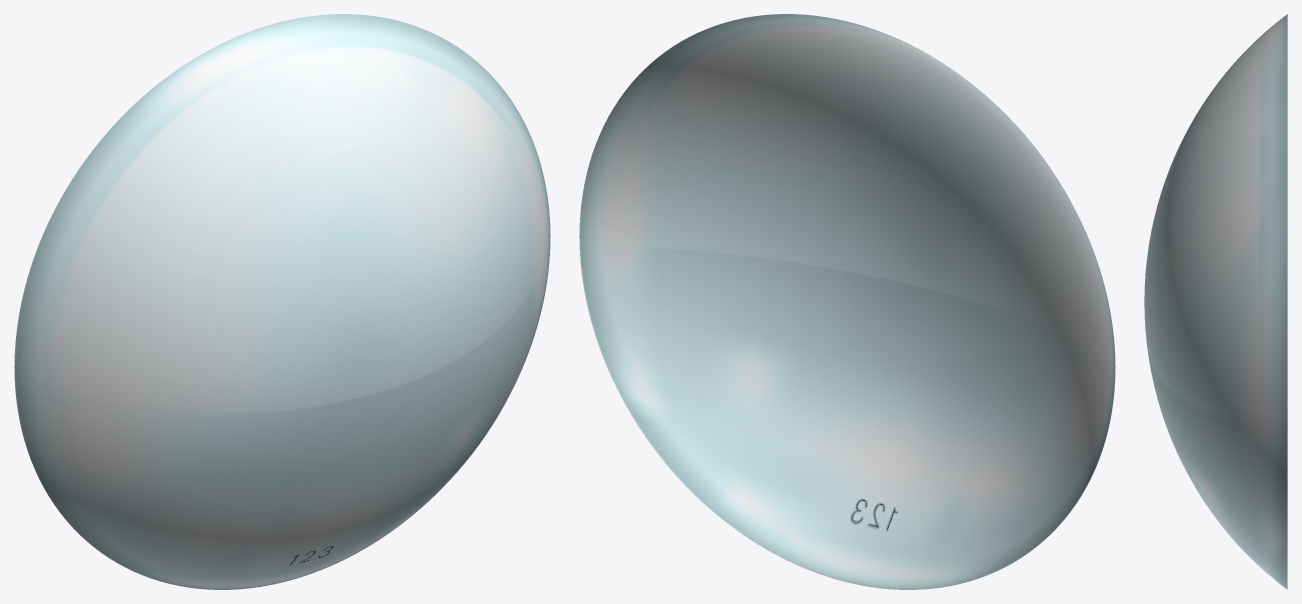
Rendered from lens-clear.glb.
3 views of the same model, side by side, from view 1: azimuth 30°, elevation 25°; view 2: azimuth 150°, elevation 25°; view 3: azimuth 270°, elevation 25° (orthographic). The views are drawn at different scales.
Visible parts, largest first — view 1: Sphere001; view 2: Sphere001; view 3: Sphere001.
Boxes of the visible parts, <box> form: Sphere001: <box>14,14,550,589</box>; Sphere001: <box>579,14,1115,589</box>; Sphere001: <box>1144,14,1287,589</box>.
Size of the model in its own units: 0.0999 by 0.0999 by 0.0248.
Materials: 1 (1 with a texture image).
